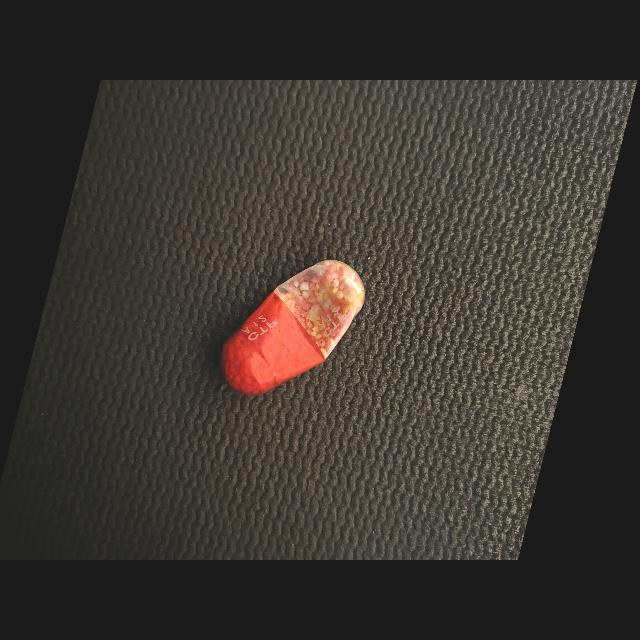Defective Capsule: (221, 259, 365, 395)
